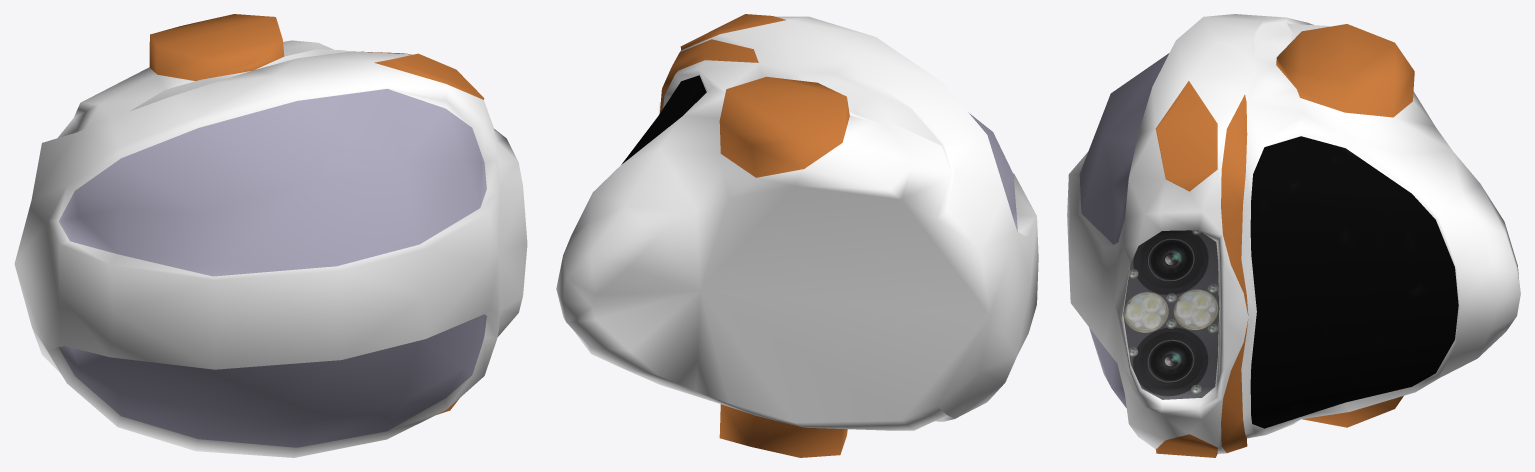
The model's file is head_multisense.obj.
3 views of the same model, side by side, from view 1: azimuth 30°, elevation 25°; view 2: azimuth 150°, elevation 25°; view 3: azimuth 270°, elevation 25° (orthographic). The views are drawn at different scales.
Bounding box in the file's own units: 0.2895 × 0.2532 × 0.2858.
Materials: 1 (1 with a texture image).
